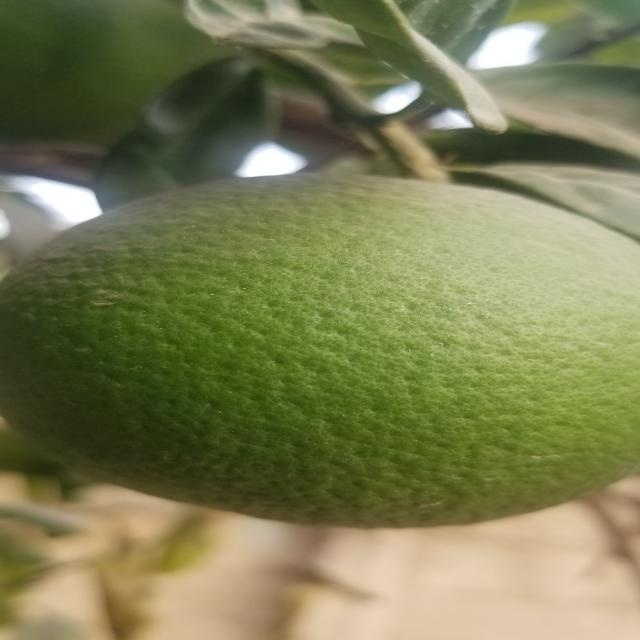agrume: (6, 176, 640, 525)
